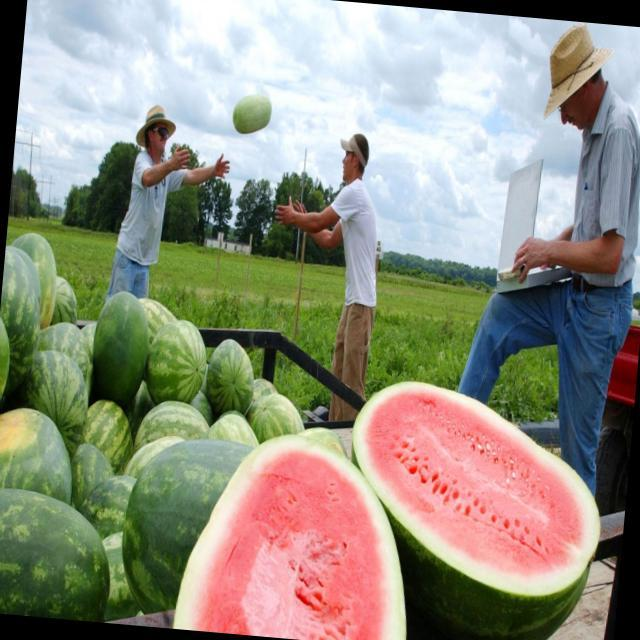WATERMELON: (335, 375, 613, 640), (173, 423, 423, 640), (116, 423, 266, 623), (0, 485, 118, 622), (0, 404, 85, 499), (88, 291, 152, 401), (28, 345, 92, 445), (0, 243, 43, 388), (144, 318, 210, 404), (9, 223, 61, 326), (85, 387, 142, 468), (204, 336, 260, 415), (36, 317, 100, 381), (229, 94, 279, 134), (49, 270, 83, 328), (0, 312, 15, 415)
